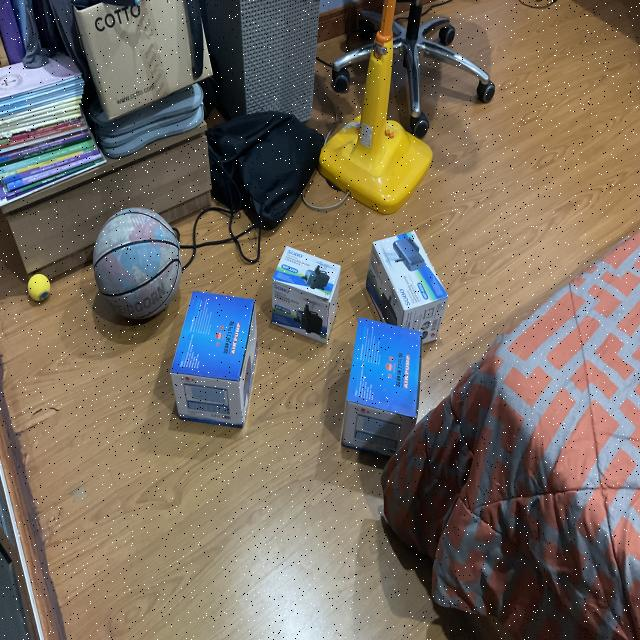SOBO_WP_4200: (350, 222, 456, 354), (265, 237, 345, 353)
YAMANO_LPP_20: (332, 306, 434, 502), (162, 286, 262, 442)
